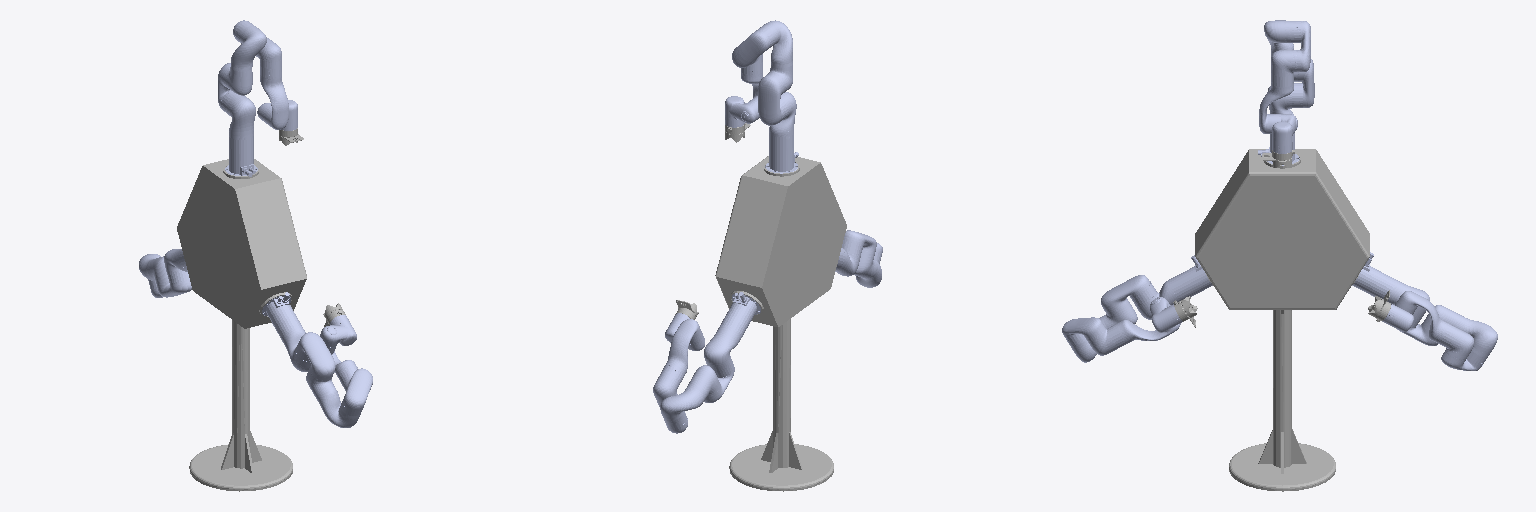
--- Facts derived from the render (not from the file) ---
The picture shows the robot from 3 angles, left to right: view 1: azimuth 30°, elevation 25°; view 2: azimuth 150°, elevation 25°; view 3: azimuth 270°, elevation 25°; orthographic projection.
Model fullbot with 22 links and 21 joints (18 revolute, 3 fixed), rooted at base_link, posed all joints at 0.
Links seen in each view (by area): view 1: base_link, link2_left, link2_up, link1_up, link2_right, link4_up, link3_left, link0_up, link0_left, link3_up, link5_left, link1_left (+1 smaller); view 2: base_link, link2_up, link2_right, link1_right, link2_left, link3_up, link4_right, link0_up, link0_right, link5_up, link3_right, link1_up (+1 smaller); view 3: base_link, link2_left, link2_right, link2_up, link3_up, link3_left, link3_right, link4_right, link0_left, link0_right, link5_up, link4_up (+5 smaller).
Link boxes in pixels (bbox=[...]): base_link: bbox=[177, 159, 306, 491]; link2_left: bbox=[299, 332, 363, 427]; link2_up: bbox=[218, 22, 266, 108]; link1_up: bbox=[221, 91, 255, 139]; link2_right: bbox=[139, 254, 191, 297]; link4_up: bbox=[260, 75, 288, 129]; link3_left: bbox=[338, 367, 372, 409]; link0_up: bbox=[225, 136, 257, 176]; link0_left: bbox=[262, 292, 302, 339]; link3_up: bbox=[233, 20, 281, 78]; link5_left: bbox=[320, 315, 356, 346]; link1_left: bbox=[282, 327, 310, 371]; base_link: bbox=[715, 156, 846, 491]; link2_up: bbox=[756, 20, 792, 125]; link2_right: bbox=[660, 365, 734, 429]; link1_right: bbox=[704, 326, 740, 377]; link2_left: bbox=[844, 230, 881, 287]; link3_up: bbox=[732, 31, 769, 74]; link4_right: bbox=[664, 319, 702, 375]; link0_up: bbox=[765, 133, 798, 173]; link0_right: bbox=[720, 292, 760, 337]; link5_up: bbox=[725, 96, 759, 127]; link3_right: bbox=[653, 365, 687, 433]; link1_up: bbox=[769, 92, 796, 136]; base_link: bbox=[1195, 149, 1369, 491]; link2_left: bbox=[1066, 275, 1149, 362]; link2_right: bbox=[1400, 305, 1497, 365]; link2_up: bbox=[1264, 20, 1314, 107]; link3_up: bbox=[1271, 21, 1310, 86]; link3_left: bbox=[1062, 317, 1126, 355]; link3_right: bbox=[1438, 323, 1482, 370]; link4_right: bbox=[1395, 291, 1447, 342]; link0_left: bbox=[1170, 255, 1212, 300]; link0_right: bbox=[1352, 252, 1395, 298]; link5_up: bbox=[1272, 114, 1297, 153]; link4_up: bbox=[1259, 83, 1293, 133].
Bounding box of the posed robot: 0.4452 × 1.62 × 1.86 m (x, y, z).
22 mesh visuals loaded from 22 distinct referenced files (22 binary STL).

The robot description file, URDF, robot "fullbot":
<?xml version="1.0" ?>
<!-- =================================================================================== -->
<!-- |    This document was autogenerated by xacro from [local-path]/code/ws_moveit/src/fullbot/urdf/fullbot.urdf.xacro | -->
<!-- |    EDITING THIS FILE BY HAND IS NOT RECOMMENDED                                 | -->
<!-- =================================================================================== -->
<!-- This URDF was automatically created by SolidWorks to URDF Exporter! Originally created by Stephen Brawner ([email redacted]) 
     Commit Version: 1.6.0-4-g7f85cfe  Build Version: 1.6.7995.38578
     For more information, please see http://wiki.ros.org/sw_urdf_exporter -->
<robot name="fullbot">
    <!-- Specify some standard inertial calculations https://en.wikipedia.org/wiki/List_of_moments_of_inertia -->
    <!-- These make use of xacro's mathematical functionality -->
    <material name="white">
        <color rgba="1 1 1 1" />
    </material>
    <material name="orange">
        <color rgba="1 0.3 0.1 1" />
    </material>
    <material name="blue">
        <color rgba="0.2 0.2 1 1" />
    </material>
    <material name="black">
        <color rgba="0 0 0 1" />
    </material>
  <gazebo>
    <plugin name="gazebo_ros_control" filename="libgazebo_ros_control.so">
      <robotNamespace>/</robotNamespace>
      <robotSimType>gazebo_ros_control/DefaultRobotHWSim</robotSimType>
    </plugin>
    <plugin name="dipole_magnet" filename="libfullbot_plugin.so">
    </plugin>
    <!-- <plugin name="dipole_magnet" filename="libstorm_gazebo_ros_magnet.so">
        <bodyName>link6_left</bodyName>
        <dipole_moment>0 0 80</dipole_moment>
        <shouldPublish>true</shouldPublish>
        <topicNs>capsule</topicNs>
        <updateRate>0</updateRate>
    </plugin> -->
    <!-- <plugin name="fullbot_wheel_controller" filename="libgazebo_ros_planar_move.so">
      <commandTopic>cmd_vel</commandTopic>
      <odometryTopic>odom</odometryTopic>
      <odometryFrame>odom</odometryFrame>
      <odometryRate>30.0</odometryRate>
      <robotBaseFrame>chassis</robotBaseFrame>
    </plugin> -->
  </gazebo>
  
  <link
    name="base_link">
    <inertial>
      <origin
        xyz="-0.00237670668945162 0.00109688224125671 0.762061321867194"
        rpy="0 0 0" />
      <mass
        value="83.9918863501521" />
      <inertia
        ixx="4.58131435742131"
        ixy="-3.09418403263941E-10"
        ixz="0.000336204370522542"
        iyy="3.15330051931996"
        iyz="-7.78528789321876E-10"
        izz="3.71265295574349" />
    </inertial>
    <visual>
      <origin
        xyz="0 0 0"
        rpy="0 0 0" />
      <geometry>
        <mesh
          filename="package://fullbot/meshes/base_link.STL" />
      </geometry>
      <material
        name="">
        <color
          rgba="0.752941176470588 0.752941176470588 0.752941176470588 1" />
      </material>
    </visual>
    <collision>
      <origin
        xyz="0 0 0"
        rpy="0 0 0" />
      <geometry>
        <mesh
          filename="package://fullbot/meshes/base_link.STL" />
      </geometry>
        <surface>
            <friction>
                <ode>
                    <mu>0.0</mu>
                    <mu2>0.0</mu2>
                    <fdir1>0.000000 0.000000 0.000000</fdir1>
                    <slip1>0.000000</slip1>
                    <slip2>0.000000</slip2>
                </ode>
            </friction>
        </surface>
    </collision>
  </link>
    <link name="link0_up">
        <inertial>
            <origin rpy="0 0 0" xyz="0.0015235 -9.2098E-05 0.072171" />
            <mass value="1.1501" />
            <inertia ixx="0.003053" ixy="7.4972E-06" ixz="7.8812E-05" iyy="0.003154" iyz="-4.773E-06" izz="0.001496" />
        </inertial>
        <visual>
            <origin rpy="0 0 0" xyz="0 0 0" />
            <geometry>
                <mesh filename="package://fullbot/meshes/link0_up.STL" />
            </geometry>
            <material name="">
                <color rgba="0.79216 0.81961 0.93333 1" />
            </material>
        </visual>
        <collision>
            <origin rpy="0 0 0" xyz="0 0 0" />
            <geometry>
                <mesh filename="package://fullbot/meshes/link0_up.STL" />
            </geometry>
        </collision>
    </link>
    <joint name="joint0_up" type="fixed">
        <origin rpy="0 0 -1.5708" xyz="0 0 1.2629" />
        <parent link="base_link" />
        <child link="link0_up" />
        <axis xyz="0 0 0" />
    </joint>
    <link name="link1_up">
        <inertial>
            <origin rpy="0 0 0" xyz="-0.0063511653118558 0.000207381647010473 0.0933560245185359" />
            <mass value="1.3256364074878" />
            <inertia ixx="0.00337516344067471" ixy="2.91047495398255E-06" ixz="0.000390263321422471" iyy="0.0039707875530841" iyz="-7.74618991821578E-06" izz="0.00211705553045749" />
        </inertial>
        <visual>
            <origin rpy="0 0 0" xyz="0 0 0" />
            <geometry>
                <mesh filename="package://fullbot/meshes/link1_up.STL" />
            </geometry>
            <material name="">
                <color rgba="0.792156862745098 0.819607843137255 0.933333333333333 1" />
            </material>
        </visual>
        <collision>
            <origin rpy="0 0 0" xyz="0 0 0" />
            <geometry>
                <mesh filename="package://fullbot/meshes/link1_up.STL" />
            </geometry>
        </collision>
    </link>
    <joint name="joint1_up" type="revolute">
        <origin rpy="0 0 0" xyz="0 0 0.1448" />
        <parent link="link0_up" />
        <child link="link1_up" />
        <axis xyz="0 0 1" />
        <limit effort="20" lower="-6.28" upper="6.28" velocity="1.5" />
    </joint>
    <link name="link2_up">
        <inertial>
            <origin rpy="0 0 0" xyz="-0.164334922175456 -0.0131391380189071 -0.0386527377791693" />
            <mass value="2.69348731441247" />
            <inertia ixx="0.00426310623774934" ixy="-0.00277535500543395" ixz="-0.000798338261530704" iyy="0.0150045970572789" iyz="0.000100430735697421" izz="0.0156052703291197" />
        </inertial>
        <visual>
            <origin rpy="0 0 0" xyz="0 0 0" />
            <geometry>
                <mesh filename="package://fullbot/meshes/link2_up.STL" />
            </geometry>
            <material name="">
                <color rgba="0.792156862745098 0.819607843137255 0.933333333333333 1" />
            </material>
        </visual>
        <collision>
            <origin rpy="0 0 0" xyz="0 0 0" />
            <geometry>
                <mesh filename="package://fullbot/meshes/link2_up.STL" />
            </geometry>
        </collision>
    </link>
    <joint name="joint2_up" type="revolute">
        <origin rpy="3.1416 1.5708 0" xyz="-0.065295 0.00034902 0.122" />
        <parent link="link1_up" />
        <child link="link2_up" />
        <axis xyz="0 0 1" />
        <limit effort="20" lower="-2.05" upper="2.09" velocity="1.5" />
    </joint>
    <link name="link3_up">
        <inertial>
            <origin rpy="0 0 0" xyz="0.0790017026576337 -0.0622013013556818 -0.0189186889395293" />
            <mass value="1.30253510106472" />
            <inertia ixx="0.00393747848651755" ixy="0.00136510222638933" ixz="0.00159608028913008" iyy="0.00525344165407256" iyz="-0.000920518752882782" izz="0.00455361194720345" />
        </inertial>
        <visual>
            <origin rpy="0 0 0" xyz="0 0 0" />
            <geometry>
                <mesh filename="package://fullbot/meshes/link3_up.STL" />
            </geometry>
            <material name="">
                <color rgba="0.792156862745098 0.819607843137255 0.933333333333333 1" />
            </material>
        </visual>
        <collision>
            <origin rpy="0 0 0" xyz="0 0 0" />
            <geometry>
                <mesh filename="package://fullbot/meshes/link3_up.STL" />
            </geometry>
        </collision>
    </link>
    <joint name="joint3_up" type="revolute">
        <origin rpy="0 0 0" xyz="-0.2859 -0.053313 -0.0083026" />
        <parent link="link2_up" />
        <child link="link3_up" />
        <axis xyz="0 0 1" />
        <limit effort="20" lower="-3.92" upper="0.19" velocity="1.5" />
    </joint>
    <link name="link4_up">
        <inertial>
            <origin rpy="0 0 0" xyz="0.0321807687354634 -0.00025917554824062 0.107627187331175" />
            <mass value="0.789560351493029" />
            <inertia ixx="0.00404949168648296" ixy="-3.36598707087041E-06" ixz="-0.00099079876639351" iyy="0.00449572325717299" iyz="-2.2965154074987E-06" izz="0.00105175547833875" />
        </inertial>
        <visual>
            <origin rpy="0 0 0" xyz="0 0 0" />
            <geometry>
                <mesh filename="package://fullbot/meshes/link4_up.STL" />
            </geometry>
            <material name="">
                <color rgba="0.792156862745098 0.819607843137255 0.933333333333333 1" />
            </material>
        </visual>
        <collision>
            <origin rpy="0 0 0" xyz="0 0 0" />
            <geometry>
                <mesh filename="package://fullbot/meshes/link4_up.STL" />
            </geometry>
        </collision>
    </link>
    <joint name="joint4_up" type="revolute">
        <origin rpy="0 1.5708 0" xyz="0.15917 -0.077751 -0.057495" />
        <parent link="link3_up" />
        <child link="link4_up" />
        <axis xyz="0 0 1" />
        <limit effort="20" lower="-6.28" upper="6.28" velocity="1.5" />
    </joint>
    <link name="link5_up">
        <inertial>
            <origin rpy="0 0 0" xyz="0.0467464429721704 -0.00940639676845523 -0.0231013060407902" />
            <mass value="0.723051769580643" />
            <inertia ixx="0.000793027726972335" ixy="0.000197964210793357" ixz="-0.000254464226983087" iyy="0.00148592083068407" iyz="5.97819367646225E-05" izz="0.00164704279225573" />
        </inertial>
        <visual>
            <origin rpy="0 0 0" xyz="0 0 0" />
            <geometry>
                <mesh filename="package://fullbot/meshes/link5_up.STL" />
            </geometry>
            <material name="">
                <color rgba="0.792156862745098 0.819607843137255 0.933333333333333 1" />
            </material>
        </visual>
        <collision>
            <origin rpy="0 0 0" xyz="0 0 0" />
            <geometry>
                <mesh filename="package://fullbot/meshes/link5_up.STL" />
            </geometry>
        </collision>
    </link>
    <joint name="joint5_up" type="revolute">
        <origin rpy="-1.5708 0 -1.5708" xyz="0.014748 -0.00043612 0.183" />
        <parent link="link4_up" />
        <child link="link5_up" />
        <axis xyz="0 0 -1" />
        <limit effort="20" lower="-1.69" upper="3.14" velocity="1.5" />
    </joint>
    <link name="link6_up">
        <inertial>
            <origin rpy="0 0 0" xyz="-0.00127764071195329 7.89251108912481E-09 0.0348924628163476" />
            <mass value="0.240703496519078" />
            <inertia ixx="0.000111819933042724" ixy="1.06441768274538E-12" ixz="3.17569406177314E-07" iyy="0.000124185578330655" iyz="-2.44652552338508E-11" izz="0.000199479046718238" />
        </inertial>
        <visual>
            <origin rpy="0 0 0" xyz="0 0 0" />
            <geometry>
                <mesh filename="package://fullbot/meshes/link6_up.STL" />
            </geometry>
            <material name="">
                <color rgba="0.752941176470588 0.752941176470588 0.752941176470588 1" />
            </material>
        </visual>
        <collision>
            <origin rpy="0 0 0" xyz="0 0 0" />
            <geometry>
                <mesh filename="package://fullbot/meshes/link6_up.STL" />
            </geometry>
        </collision>
    </link>
    <joint name="joint6_up" type="revolute">
        <origin rpy="1.5708 1.5708 0" xyz="0.075873 -0.058524 -0.014339" />
        <parent link="link5_up" />
        <child link="link6_up" />
        <axis xyz="0 0 1" />
        <limit effort="20" lower="-6.28" upper="6.28" velocity="1.5" />
    </joint>
    <link name="link0_right">
        <inertial>
            <origin rpy="0 0 0" xyz="0.00152352214909268 -9.20950558262901E-05 0.0721709833940649" />
            <mass value="1.15012354839417" />
            <inertia ixx="0.00305297729491234" ixy="7.49727624531085E-06" ixz="7.8811653611199E-05" iyy="0.00315399502526908" iyz="-4.77312392810153E-06" izz="0.00149595458411752" />
        </inertial>
        <visual>
            <origin rpy="0 0 0" xyz="0 0 0" />
            <geometry>
                <mesh filename="package://fullbot/meshes/link0_right.STL" />
            </geometry>
            <material name="">
                <color rgba="0.792156862745098 0.819607843137255 0.933333333333333 1" />
            </material>
        </visual>
        <collision>
            <origin rpy="0 0 0" xyz="0 0 0" />
            <geometry>
                <mesh filename="package://fullbot/meshes/link0_right.STL" />
            </geometry>
        </collision>
    </link>
    <joint name="joint0_right" type="fixed">
        <origin rpy="3.14159265358979 -1.04719755119661 1.5707963267949" xyz="0 0.262500000000021 0.808253175473089" />
        <parent link="base_link" />
        <child link="link0_right" />
        <axis xyz="0 0 0" />
    </joint>
    <link name="link1_right">
        <inertial>
            <origin rpy="0 0 0" xyz="-0.00635141038711484 0.000207534921337451 0.0933560223181532" />
            <mass value="1.32562534805268" />
            <inertia ixx="0.0033751569034854" ixy="2.90184699872975E-06" ixz="0.000390274835452127" iyy="0.00397076269428928" iyz="-7.74687080996628E-06" izz="0.00211702052844463" />
        </inertial>
        <visual>
            <origin rpy="0 0 0" xyz="0 0 0" />
            <geometry>
                <mesh filename="package://fullbot/meshes/link1_right.STL" />
            </geometry>
            <material name="">
                <color rgba="0.792156862745098 0.819607843137255 0.933333333333333 1" />
            </material>
        </visual>
        <collision>
            <origin rpy="0 0 0" xyz="0 0 0" />
            <geometry>
                <mesh filename="package://fullbot/meshes/link1_right.STL" />
            </geometry>
        </collision>
    </link>
    <joint name="joint1_right" type="revolute">
        <origin rpy="0 0 0" xyz="0 0 0.1448" />
        <parent link="link0_right" />
        <child link="link1_right" />
        <axis xyz="0 0 1" />
        <limit effort="20" lower="-6.28" upper="6.28" velocity="1.5" />
    </joint>
    <link name="link2_right">
        <inertial>
            <origin rpy="0 0 0" xyz="-0.164337985161048 -0.0131393685703512 -0.0386544729786384" />
            <mass value="2.69362838096021" />
            <inertia ixx="0.00426335070454304" ixy="-0.00277555236003664" ixz="-0.000798532633310513" iyy="0.0150051670245593" iyz="0.000100373269271408" izz="0.0156058685529561" />
        </inertial>
        <visual>
            <origin rpy="0 0 0" xyz="0 0 0" />
            <geometry>
                <mesh filename="package://fullbot/meshes/link2_right.STL" />
            </geometry>
            <material name="">
                <color rgba="0.792156862745098 0.819607843137255 0.933333333333333 1" />
            </material>
        </visual>
        <collision>
            <origin rpy="0 0 0" xyz="0 0 0" />
            <geometry>
                <mesh filename="package://fullbot/meshes/link2_right.STL" />
            </geometry>
        </collision>
    </link>
    <joint name="joint2_right" type="revolute">
        <origin rpy="3.1416 1.5708 0" xyz="-0.065295 0.00034902 0.122" />
        <parent link="link1_right" />
        <child link="link2_right" />
        <axis xyz="0 0 1" />
        <limit effort="20" lower="-2.05" upper="2.09" velocity="1.5" />
    </joint>
    <link name="link3_right">
        <inertial>
            <origin rpy="0 0 0" xyz="0.0790018467474999 -0.0622013835327156 -0.0189188081086681" />
            <mass value="1.30253291173427" />
            <inertia ixx="0.00393746472517653" ixy="0.00136509457478538" ixz="0.00159605824936344" iyy="0.00525341640271265" iyz="-0.000920517395001331" izz="0.00455360703799699" />
        </inertial>
        <visual>
            <origin rpy="0 0 0" xyz="0 0 0" />
            <geometry>
                <mesh filename="package://fullbot/meshes/link3_right.STL" />
            </geometry>
            <material name="">
                <color rgba="0.792156862745098 0.819607843137255 0.933333333333333 1" />
            </material>
        </visual>
        <collision>
            <origin rpy="0 0 0" xyz="0 0 0" />
            <geometry>
                <mesh filename="package://fullbot/meshes/link3_right.STL" />
            </geometry>
        </collision>
    </link>
    <joint name="joint3_right" type="revolute">
        <origin rpy="0 0 0" xyz="-0.2859 -0.053313 -0.0083026" />
        <parent link="link2_right" />
        <child link="link3_right" />
        <axis xyz="0 0 1" />
        <limit effort="20" lower="-3.92" upper="0.19" velocity="1.5" />
    </joint>
    <link name="link4_right">
        <inertial>
            <origin rpy="0 0 0" xyz="0.0321808159995989 -0.000259192543237335 0.107627165980801" />
            <mass value="0.78956108124552" />
            <inertia ixx="0.00404951021883878" ixy="-3.3674543336446E-06" ixz="-0.000990810460485379" iyy="0.00449575360734708" iyz="-2.29158571071361E-06" izz="0.00105176344238809" />
        </inertial>
        <visual>
            <origin rpy="0 0 0" xyz="0 0 0" />
            <geometry>
                <mesh filename="package://fullbot/meshes/link4_right.STL" />
            </geometry>
            <material name="">
                <color rgba="0.792156862745098 0.819607843137255 0.933333333333333 1" />
            </material>
        </visual>
        <collision>
            <origin rpy="0 0 0" xyz="0 0 0" />
            <geometry>
                <mesh filename="package://fullbot/meshes/link4_right.STL" />
            </geometry>
        </collision>
    </link>
    <joint name="joint4_right" type="revolute">
        <origin rpy="0 1.5708 0" xyz="0.15917 -0.077751 -0.057495" />
        <parent link="link3_right" />
        <child link="link4_right" />
        <axis xyz="0 0 1" />
        <limit effort="20" lower="-6.28" upper="6.28" velocity="1.5" />
    </joint>
    <link name="link5_right">
        <inertial>
            <origin rpy="0 0 0" xyz="0.0467464712720566 -0.00940636520692905 -0.0231013135933531" />
            <mass value="0.723053236781345" />
            <inertia ixx="0.000793029275563745" ixy="0.00019796746165297" ixz="-0.000254450161449136" iyy="0.00148592048173132" iyz="5.97839010606921E-05" izz="0.00164706260101592" />
        </inertial>
        <visual>
            <origin rpy="0 0 0" xyz="0 0 0" />
            <geometry>
                <mesh filename="package://fullbot/meshes/link5_right.STL" />
            </geometry>
            <material name="">
                <color rgba="0.792156862745098 0.819607843137255 0.933333333333333 1" />
            </material>
        </visual>
        <collision>
            <origin rpy="0 0 0" xyz="0 0 0" />
            <geometry>
                <mesh filename="package://fullbot/meshes/link5_right.STL" />
            </geometry>
        </collision>
    </link>
    <joint name="joint5_right" type="revolute">
        <origin rpy="-1.5708 0 -1.5708" xyz="0.014748 -0.00043612 0.183" />
        <parent link="link4_right" />
        <child link="link5_right" />
        <axis xyz="0 0 -1" />
        <limit effort="20" lower="-1.69" upper="3.14" velocity="1.5" />
    </joint>
    <link name="link6_right">
        <inertial>
            <origin rpy="0 0 0" xyz="-0.00127764709875855 8.16060202746272E-09 0.0348924616310335" />
            <mass value="0.240703470193428" />
            <inertia ixx="0.000111819928166232" ixy="-8.5304557524986E-12" ixz="3.17582815697291E-07" iyy="0.000124185592316452" iyz="-2.14504240040412E-11" izz="0.000199479022123197" />
        </inertial>
        <visual>
            <origin rpy="0 0 0" xyz="0 0 0" />
            <geometry>
                <mesh filename="package://fullbot/meshes/link6_right.STL" />
            </geometry>
            <material name="">
                <color rgba="0.752941176470588 0.752941176470588 0.752941176470588 1" />
            </material>
        </visual>
        <collision>
            <origin rpy="0 0 0" xyz="0 0 0" />
            <geometry>
                <mesh filename="package://fullbot/meshes/link6_right.STL" />
            </geometry>
        </collision>
    </link>
    <joint name="joint6_right" type="revolute">
        <origin rpy="1.5708 1.5708 0" xyz="0.075873 -0.058524 -0.014339" />
        <parent link="link5_right" />
        <child link="link6_right" />
        <axis xyz="0 0 1" />
        <limit effort="20" lower="-6.28" upper="6.28" velocity="1.5" />
    </joint>
    <link name="link0_left">
        <inertial>
            <origin rpy="0 0 0" xyz="-0.00152352228347186 9.20948264806331E-05 0.0721709830015318" />
            <mass value="1.15012353923379" />
            <inertia ixx="0.00305297726264137" ixy="7.49728091574788E-06" ixz="-7.88116451994899E-05" iyy="0.00315399499788005" iyz="4.77313793260606E-06" izz="0.00149595457246201" />
        </inertial>
        <visual>
            <origin rpy="0 0 0" xyz="0 0 0" />
            <geometry>
                <mesh filename="package://fullbot/meshes/link0_left.STL" />
            </geometry>
            <material name="">
                <color rgba="0.792156862745098 0.819607843137255 0.933333333333333 1" />
            </material>
        </visual>
        <collision>
            <origin rpy="0 0 0" xyz="0 0 0" />
            <geometry>
                <mesh filename="package://fullbot/meshes/link0_left.STL" />
            </geometry>
        </collision>
    </link>
    <joint name="joint0_left" type="fixed">
        <origin rpy="3.14159265358979 1.04719755119659 1.57079632679489" xyz="0 -0.262500000000018 0.808253175473086" />
        <parent link="base_link" />
        <child link="link0_left" />
        <axis xyz="0 0 0" />
    </joint>
    <link name="link1_left">
        <inertial>
            <origin rpy="0 0 0" xyz="-0.00635132541827643 0.000207433439637812 0.0933560224157137" />
            <mass value="1.32563223880842" />
            <inertia ixx="0.0033752021374132" ixy="2.88747662063124E-06" ixz="0.000390243275931501" iyy="0.00397075692793722" iyz="-7.76736476127417E-06" izz="0.0021170422993842" />
        </inertial>
        <visual>
            <origin rpy="0 0 0" xyz="0 0 0" />
            <geometry>
                <mesh filename="package://fullbot/meshes/link1_left.STL" />
            </geometry>
            <material name="">
                <color rgba="0.792156862745098 0.819607843137255 0.933333333333333 1" />
            </material>
        </visual>
        <collision>
            <origin rpy="0 0 0" xyz="0 0 0" />
            <geometry>
                <mesh filename="package://fullbot/meshes/link1_left.STL" />
            </geometry>
        </collision>
    </link>
    <joint name="joint1_left" type="revolute">
        <origin rpy="0 0 0" xyz="0 0 0.1448" />
        <parent link="link0_left" />
        <child link="link1_left" />
        <axis xyz="0 0 1" />
        <limit effort="20" lower="-6.28" upper="6.28" velocity="1.5" />
    </joint>
    <link name="link2_left">
        <inertial>
            <origin rpy="0 0 0" xyz="-0.164335653200961 -0.0131391438496397 -0.0386534541310815" />
            <mass value="2.693519969393" />
            <inertia ixx="0.00426316968491273" ixy="-0.00277539275843287" ixz="-0.000798412755260659" iyy="0.015004913484326" iyz="0.000100414305662904" izz="0.0156055322063192" />
        </inertial>
        <visual>
            <origin rpy="0 0 0" xyz="0 0 0" />
            <geometry>
                <mesh filename="package://fullbot/meshes/link2_left.STL" />
            </geometry>
            <material name="">
                <color rgba="0.792156862745098 0.819607843137255 0.933333333333333 1" />
            </material>
        </visual>
        <collision>
            <origin rpy="0 0 0" xyz="0 0 0" />
            <geometry>
                <mesh filename="package://fullbot/meshes/link2_left.STL" />
            </geometry>
        </collision>
    </link>
    <joint name="joint2_left" type="revolute">
        <origin rpy="3.1416 1.5708 0" xyz="-0.065295 0.00034902 0.122" />
        <parent link="link1_left" />
        <child link="link2_left" />
        <axis xyz="0 0 1" />
        <limit effort="20" lower="-2.05" upper="2.09" velocity="1.5" />
    </joint>
    <link name="link3_left">
        <inertial>
            <origin rpy="0 0 0" xyz="0.0790016512060432 -0.0622011862834298 -0.0189187307620943" />
            <mass value="1.30253713018814" />
            <inertia ixx="0.00393752557798942" ixy="0.00136512084598024" ixz="0.00159609045475645" iyy="0.00525350026062385" iyz="-0.000920532713824777" izz="0.00455371583746519" />
        </inertial>
        <visual>
            <origin rpy="0 0 0" xyz="0 0 0" />
            <geometry>
                <mesh filename="package://fullbot/meshes/link3_left.STL" />
            </geometry>
            <material name="">
                <color rgba="0.792156862745098 0.819607843137255 0.933333333333333 1" />
            </material>
        </visual>
        <collision>
            <origin rpy="0 0 0" xyz="0 0 0" />
            <geometry>
                <mesh filename="package://fullbot/meshes/link3_left.STL" />
            </geometry>
        </collision>
    </link>
    <joint name="joint3_left" type="revolute">
        <origin rpy="0 0 0" xyz="-0.2859 -0.053313 -0.0083026" />
        <parent link="link2_left" />
        <child link="link3_left" />
        <axis xyz="0 0 1" />
        <limit effort="20" lower="-3.92" upper="0.19" velocity="1.5" />
    </joint>
    <link name="link4_left">
        <inertial>
            <origin rpy="0 0 0" xyz="0.0321813918409148 -0.000259353515606797 0.107627755673519" />
            <mass value="0.789550324066767" />
            <inertia ixx="0.00404948831293703" ixy="-3.37071367934127E-06" ixz="-0.000990801773245661" iyy="0.00449572527498313" iyz="-2.29509968742282E-06" izz="0.00105175433912365" />
        </inertial>
        <visual>
            <origin rpy="0 0 0" xyz="0 0 0" />
            <geometry>
                <mesh filename="package://fullbot/meshes/link4_left.STL" />
            </geometry>
            <material name="">
                <color rgba="0.792156862745098 0.819607843137255 0.933333333333333 1" />
            </material>
        </visual>
        <collision>
            <origin rpy="0 0 0" xyz="0 0 0" />
            <geometry>
                <mesh filename="package://fullbot/meshes/link4_left.STL" />
            </geometry>
        </collision>
    </link>
    <joint name="joint4_left" type="revolute">
        <origin rpy="0 1.5708 0" xyz="0.15917 -0.077751 -0.057495" />
        <parent link="link3_left" />
        <child link="link4_left" />
        <axis xyz="0 0 1" />
        <limit effort="20" lower="-6.28" upper="6.28" velocity="1.5" />
    </joint>
    <link name="link5_left">
        <inertial>
            <origin rpy="0 0 0" xyz="0.0467460587567171 -0.0094063461555137 -0.0231014499120238" />
            <mass value="0.723052791881536" />
            <inertia ixx="0.000793040035769921" ixy="0.000197992610855098" ixz="-0.000254454983145896" iyy="0.00148594871876037" iyz="5.97820535578688E-05" izz="0.00164710089968391" />
        </inertial>
        <visual>
            <origin rpy="0 0 0" xyz="0 0 0" />
            <geometry>
                <mesh filename="package://fullbot/meshes/link5_left.STL" />
            </geometry>
            <material name="">
                <color rgba="0.792156862745098 0.819607843137255 0.933333333333333 1" />
            </material>
        </visual>
        <collision>
            <origin rpy="0 0 0" xyz="0 0 0" />
            <geometry>
                <mesh filename="package://fullbot/meshes/link5_left.STL" />
            </geometry>
        </collision>
    </link>
    <joint name="joint5_left" type="revolute">
        <origin rpy="-1.5708 0 -1.5708" xyz="0.014748 -0.00043612 0.183" />
        <parent link="link4_left" />
        <child link="link5_left" />
        <axis xyz="0 0 -1" />
        <limit effort="20" lower="-1.69" upper="3.14" velocity="1.5" />
    </joint>
    <link name="link6_left">
        <inertial>
            <origin rpy="0 0 0" xyz="-0.00127763577348217 7.93220825134888E-09 0.0348924624099836" />
            <mass value="0.24070347329952" />
            <inertia ixx="0.000111819940943311" ixy="-1.15110725036355E-11" ixz="3.17554848775727E-07" iyy="0.0001241855941227" iyz="-3.87077223997555E-11" izz="0.00019947903857224" />
        </inertial>
        <visual>
            <origin rpy="0 0 0" xyz="0 0 0" />
            <geometry>
                <mesh filename="package://fullbot/meshes/link6_left.STL" />
            </geometry>
            <material name="">
                <color rgba="0.752941176470588 0.752941176470588 0.752941176470588 1" />
            </material>
        </visual>
        <collision>
            <origin rpy="0 0 0" xyz="0 0 0" />
            <geometry>
                <mesh filename="package://fullbot/meshes/link6_left.STL" />
            </geometry>
        </collision>
    </link>
    <joint name="joint6_left" type="revolute">
        <origin rpy="1.5708 1.5708 0" xyz="0.075873 -0.058524 -0.014339" />
        <parent link="link5_left" />
        <child link="link6_left" />
        <axis xyz="0 0 1" />
        <limit effort="20" lower="-6.28" upper="6.28" velocity="1.5" />
    </joint>
    
    <transmission name="trans1_up">
        <type>transmission_interface/SimpleTransmission</type>
        <joint name="joint1_up">
            <hardwareInterface>hardware_interface/PositionJointInterface</hardwareInterface>
        </joint>
        <actuator name="motor1_up">
            <hardwareInterface>hardware_interface/PositionJointInterface</hardwareInterface>
            <mechanicalReduction>1</mechanicalReduction>
        </actuator>
    </transmission>
    <transmission name="trans2_up">
        <type>transmission_interface/SimpleTransmission</type>
        <joint name="joint2_up">
            <hardwareInterface>hardware_interface/PositionJointInterface</hardwareInterface>
        </joint>
        <actuator name="motor2_up">
            <hardwareInterface>hardware_interface/PositionJointInterface</hardwareInterface>
            <mechanicalReduction>1</mechanicalReduction>
        </actuator>
    </transmission>
    <transmission name="trans3_up">
        <type>transmission_interface/SimpleTransmission</type>
        <joint name="joint3_up">
            <hardwareInterface>hardware_interface/PositionJointInterface</hardwareInterface>
        </joint>
        <actuator name="motor3_up">
            <hardwareInterface>hardware_interface/PositionJointInterface</hardwareInterface>
            <mechanicalReduction>1</mechanicalReduction>
        </actuator>
    </transmission>
    <transmission name="trans4_up">
        <type>transmission_interface/SimpleTransmission</type>
        <joint name="joint4_up">
            <hardwareInterface>hardware_interface/PositionJointInterface</hardwareInterface>
        </joint>
        <actuator name="motor4_up">
            <hardwareInterface>hardware_interface/PositionJointInterface</hardwareInterface>
            <mechanicalReduction>1</mechanicalReduction>
        </actuator>
    </transmission>
    <transmission name="trans5_up">
        <type>transmission_interface/SimpleTransmission</type>
        <joint name="joint5_up">
            <hardwareInterface>hardware_interface/PositionJointInterface</hardwareInterface>
        </joint>
        <actuator name="motor5_up">
            <hardwareInterface>hardware_interface/PositionJointInterface</hardwareInterface>
            <mechanicalReduction>1</mechanicalReduction>
        </actuator>
    </transmission>
    <transmission name="trans6_up">
        <type>transmission_interface/SimpleTransmission</type>
        <joint name="joint6_up">
            <hardwareInterface>hardware_interface/PositionJointInterface</hardwareInterface>
        </joint>
        <actuator name="motor6_up">
            <hardwareInterface>hardware_interface/PositionJointInterface</hardwareInterface>
            <mechanicalReduction>1</mechanicalReduction>
        </actuator>
    </transmission>
    <!-- Used for fixing robot to Gazebo 'base_link' -->
    <transmission name="trans1_left">
        <type>transmission_interface/SimpleTransmission</type>
        <joint name="joint1_left">
            <hardwareInterface>hardware_interface/PositionJointInterface</hardwareInterface>
        </joint>
        <actuator name="motor1_left">
            <hardwareInterface>hardware_interface/PositionJointInterface</hardwareInterface>
            <mechanicalReduction>1</mechanicalReduction>
        </actuator>
    </transmission>
    <transmission name="trans2_left">
        <type>transmission_interface/SimpleTransmission</type>
        <joint name="joint2_left">
            <hardwareInterface>hardware_interface/PositionJointInterface</hardwareInterface>
        </joint>
        <actuator name="motor2_left">
            <hardwareInterface>hardware_interface/PositionJointInterface</hardwareInterface>
            <mechanicalReduction>1</mechanicalReduction>
        </actuator>
    </transmission>
    <transmission name="trans3_left">
        <type>transmission_interface/SimpleTransmission</type>
        <joint name="joint3_left">
            <hardwareInterface>hardware_interface/PositionJointInterface</hardwareInterface>
        </joint>
        <actuator name="motor3_left">
            <hardwareInterface>hardware_interface/PositionJointInterface</hardwareInterface>
            <mechanicalReduction>1</mechanicalReduction>
        </actuator>
    </transmission>
    <transmission name="trans4_left">
        <type>transmission_interface/SimpleTransmission</type>
        <joint name="joint4_left">
            <hardwareInterface>hardware_interface/PositionJointInterface</hardwareInterface>
        </joint>
        <actuator name="motor4_left">
            <hardwareInterface>hardware_interface/PositionJointInterface</hardwareInterface>
            <mechanicalReduction>1</mechanicalReduction>
        </actuator>
    </transmission>
    <transmission name="trans5_left">
        <type>transmission_interface/SimpleTransmission</type>
        <joint name="joint5_left">
            <hardwareInterface>hardware_interface/PositionJointInterface</hardwareInterface>
        </joint>
        <actuator name="motor5_left">
            <hardwareInterface>hardware_interface/PositionJointInterface</hardwareInterface>
            <mechanicalReduction>1</mechanicalReduction>
        </actuator>
    </transmission>
    <transmission name="trans6_left">
        <type>transmission_interface/SimpleTransmission</type>
        <joint name="joint6_left">
            <hardwareInterface>hardware_interface/PositionJointInterface</hardwareInterface>
        </joint>
        <actuator name="motor6_left">
            <hardwareInterface>hardware_interface/PositionJointInterface</hardwareInterface>
            <mechanicalReduction>1</mechanicalReduction>
        </actuator>
    </transmission>
    <transmission name="trans1_right">
        <type>transmission_interface/SimpleTransmission</type>
        <joint name="joint1_right">
            <hardwareInterface>hardware_interface/PositionJointInterface</hardwareInterface>
        </joint>
        <actuator name="motor1_right">
            <hardwareInterface>hardware_interface/PositionJointInterface</hardwareInterface>
            <mechanicalReduction>1</mechanicalReduction>
        </actuator>
    </transmission>
    <transmission name="trans2_right">
        <type>transmission_interface/SimpleTransmission</type>
        <joint name="joint2_right">
            <hardwareInterface>hardware_interface/PositionJointInterface</hardwareInterface>
        </joint>
        <actuator name="motor2_right">
            <hardwareInterface>hardware_interface/PositionJointInterface</hardwareInterface>
            <mechanicalReduction>1</mechanicalReduction>
        </actuator>
    </transmission>
    <transmission name="trans3_right">
        <type>transmission_interface/SimpleTransmission</type>
        <joint name="joint3_right">
            <hardwareInterface>hardware_interface/PositionJointInterface</hardwareInterface>
        </joint>
        <actuator name="motor3_right">
            <hardwareInterface>hardware_interface/PositionJointInterface</hardwareInterface>
            <mechanicalReduction>1</mechanicalReduction>
        </actuator>
    </transmission>
    <transmission name="trans4_right">
        <type>transmission_interface/SimpleTransmission</type>
        <joint name="joint4_right">
            <hardwareInterface>hardware_interface/PositionJointInterface</hardwareInterface>
        </joint>
        <actuator name="motor4_right">
            <hardwareInterface>hardware_interface/PositionJointInterface</hardwareInterface>
            <mechanicalReduction>1</mechanicalReduction>
        </actuator>
    </transmission>
    <transmission name="trans5_right">
        <type>transmission_interface/SimpleTransmission</type>
        <joint name="joint5_right">
            <hardwareInterface>hardware_interface/PositionJointInterface</hardwareInterface>
        </joint>
        <actuator name="motor5_right">
            <hardwareInterface>hardware_interface/PositionJointInterface</hardwareInterface>
            <mechanicalReduction>1</mechanicalReduction>
        </actuator>
    </transmission>
    <transmission name="trans6_right">
        <type>transmission_interface/SimpleTransmission</type>
        <joint name="joint6_right">
            <hardwareInterface>hardware_interface/PositionJointInterface</hardwareInterface>
        </joint>
        <actuator name="motor6_right">
            <hardwareInterface>hardware_interface/PositionJointInterface</hardwareInterface>
            <mechanicalReduction>1</mechanicalReduction>
        </actuator>
    </transmission>
</robot>
